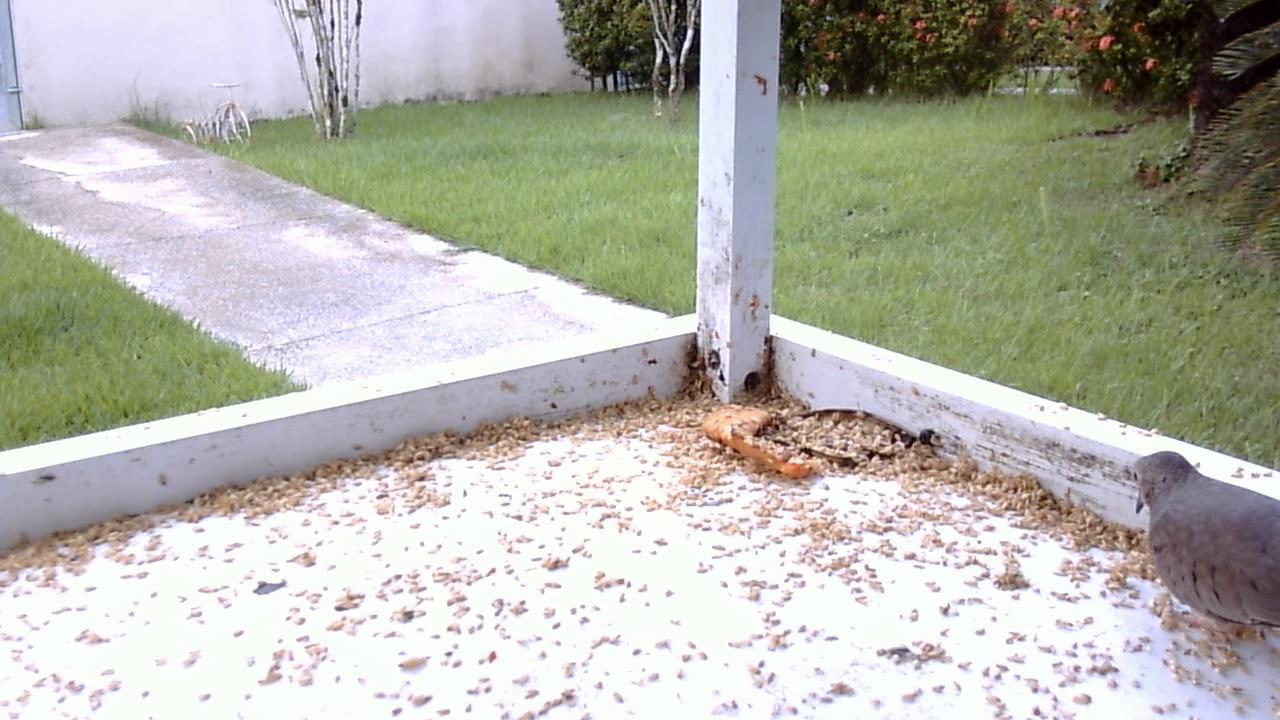rolinha: (1122, 449, 1280, 647)
